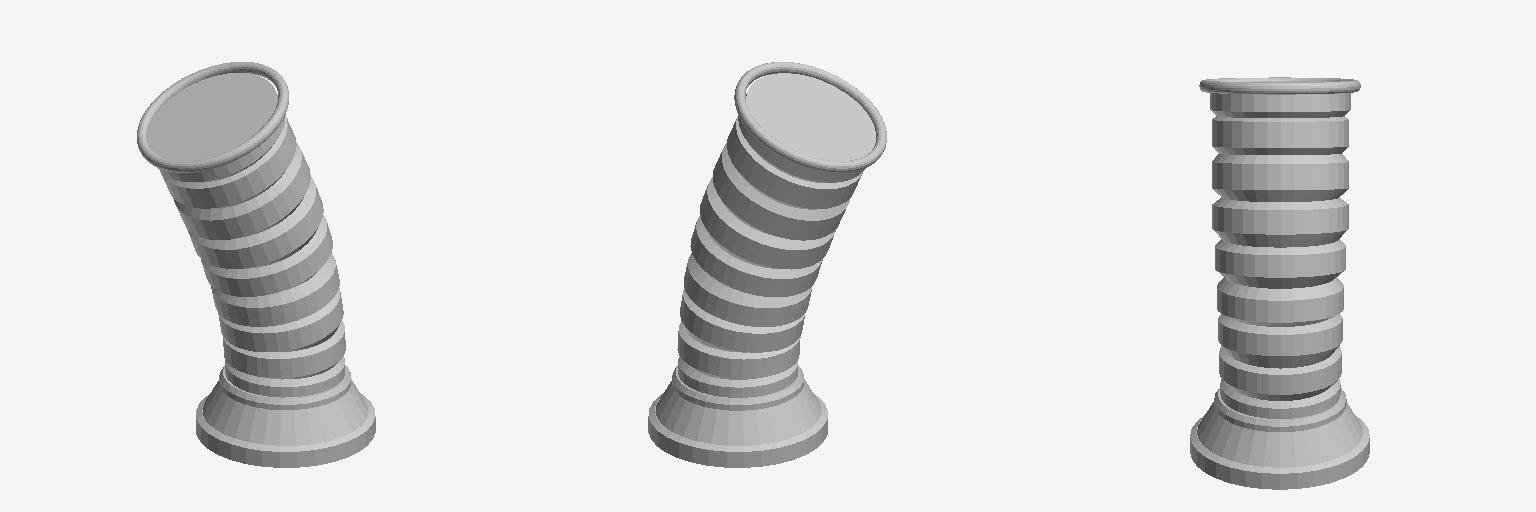
The model's file is ejerciciogoddardPataDelantera.obj.
The picture shows the model from 3 angles: view 1: azimuth 30°, elevation 25°; view 2: azimuth 150°, elevation 25°; view 3: azimuth 270°, elevation 25°; orthographic projection.
Parts seen in each view (by area): view 1: C_rculo, C_rculo_009_C_rculo_010, C_rculo_010_C_rculo_011, C_rculo_003, C_rculo_008_C_rculo_009; view 2: C_rculo, C_rculo_009_C_rculo_010, C_rculo_010_C_rculo_011, C_rculo_003, C_rculo_008_C_rculo_009; view 3: C_rculo, C_rculo_009_C_rculo_010, C_rculo_010_C_rculo_011, C_rculo_003, C_rculo_008_C_rculo_009.
Boxes of the visible parts, box(x1,y1,x2,y2) form: C_rculo: box(148, 73, 345, 397); C_rculo_009_C_rculo_010: box(202, 379, 368, 445); C_rculo_010_C_rculo_011: box(196, 394, 375, 467); C_rculo_003: box(137, 62, 288, 172); C_rculo_008_C_rculo_009: box(219, 365, 350, 409); C_rculo: box(677, 73, 875, 397); C_rculo_009_C_rculo_010: box(655, 379, 820, 445); C_rculo_010_C_rculo_011: box(648, 394, 827, 467); C_rculo_003: box(734, 62, 886, 172); C_rculo_008_C_rculo_009: box(672, 365, 803, 410); C_rculo: box(1210, 93, 1350, 418); C_rculo_009_C_rculo_010: box(1197, 402, 1362, 467); C_rculo_010_C_rculo_011: box(1190, 415, 1369, 489); C_rculo_003: box(1199, 77, 1360, 94); C_rculo_008_C_rculo_009: box(1214, 388, 1346, 431).
Bounding box in the file's own units: 1.42 × 2.29 × 1.03.